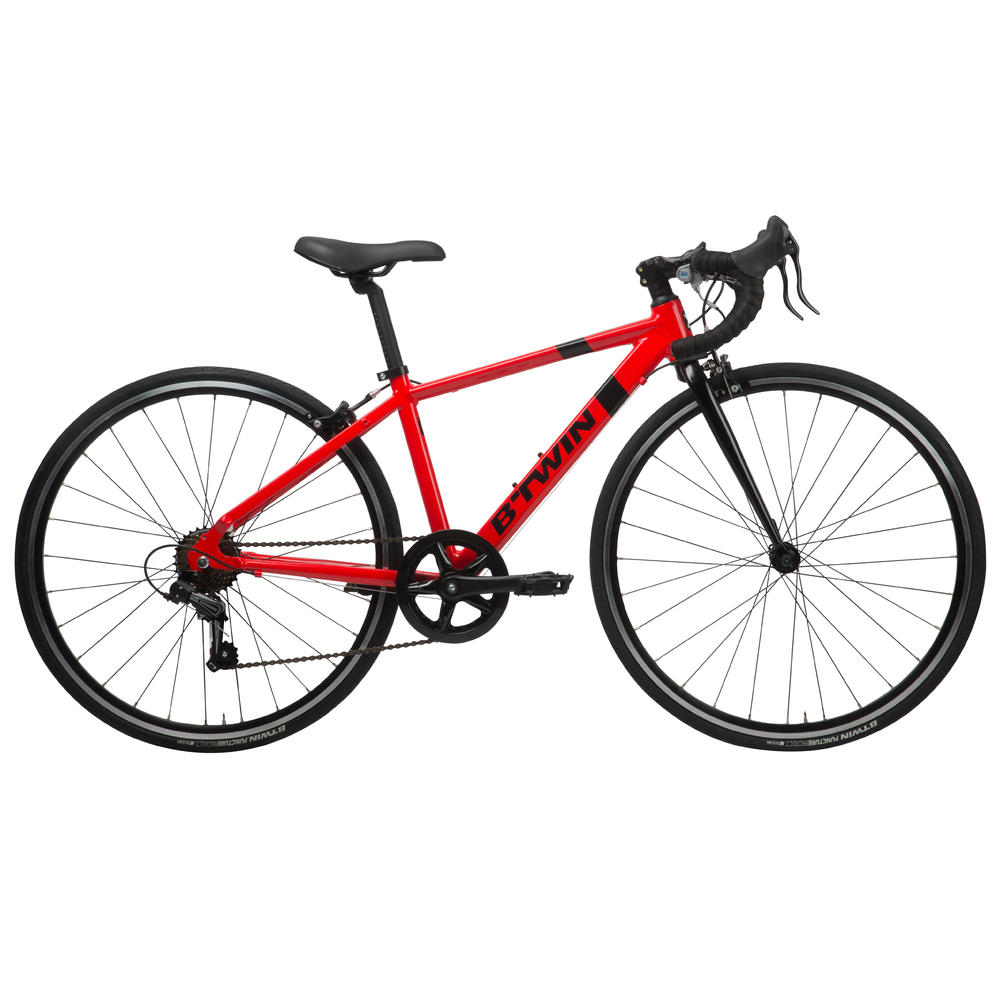RoadBike: (92, 176, 858, 845)
